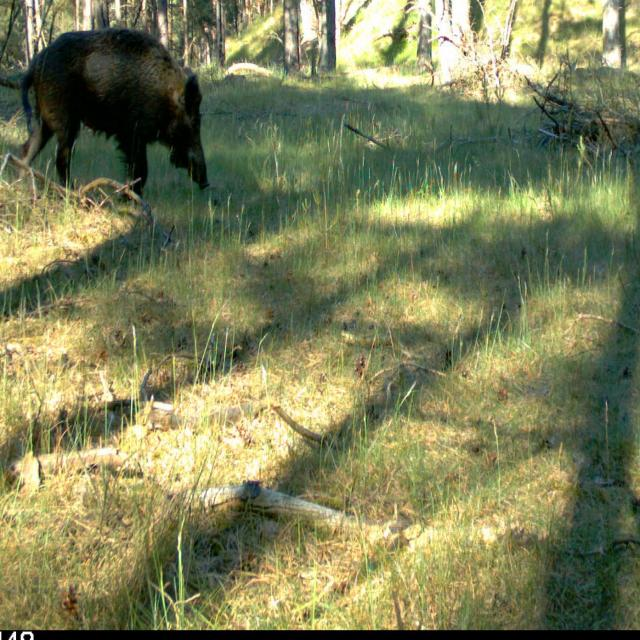pig: (11, 23, 221, 236)
